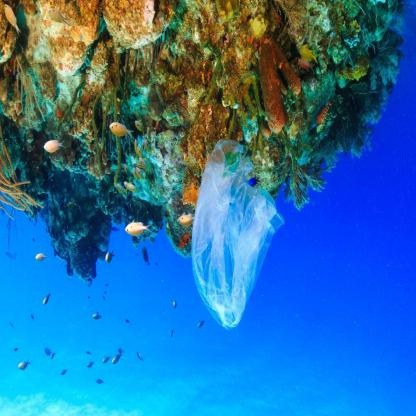pbag: (192, 139, 286, 329)
